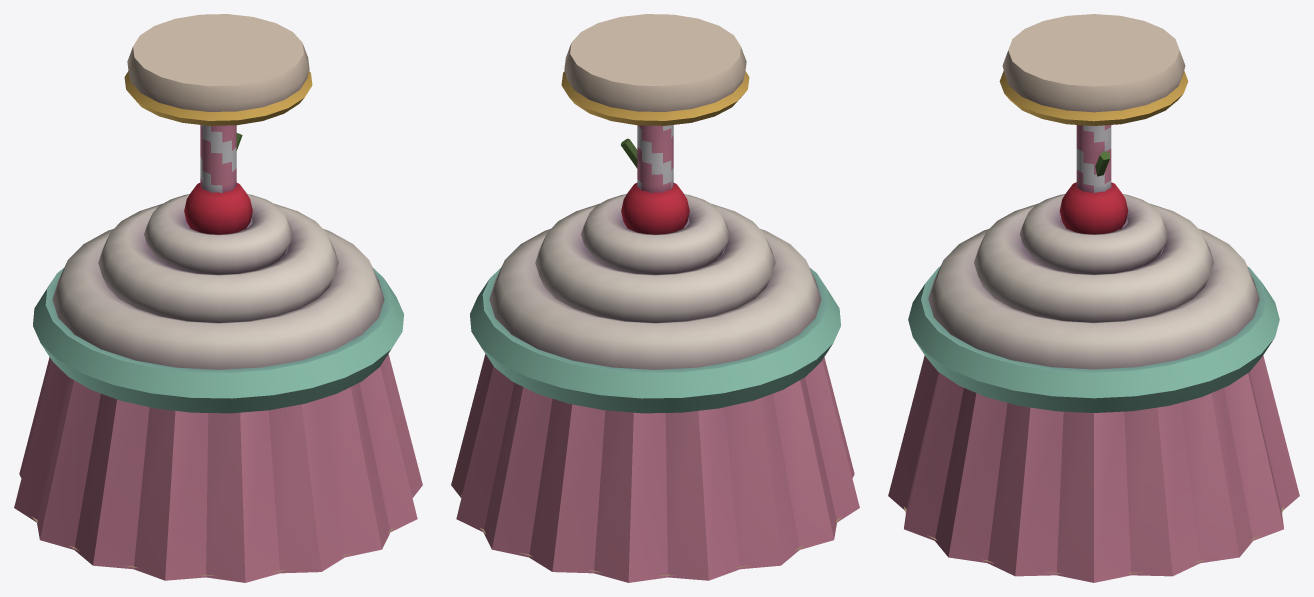
Rendered from lamp_candy.glb.
The picture shows the model from 3 angles, left to right: view 1: azimuth 30°, elevation 25°; view 2: azimuth 150°, elevation 25°; view 3: azimuth 270°, elevation 25°; orthographic projection.
Parts seen in each view (by area): view 1: lamp_candy; view 2: lamp_candy; view 3: lamp_candy.
Boxes of the visible parts, left/top/right/bottom form: lamp_candy: left=14, top=14, right=422, bottom=582; lamp_candy: left=451, top=14, right=859, bottom=582; lamp_candy: left=888, top=14, right=1299, bottom=582.
Size of the model in its own units: 0.7201 by 0.86 by 0.7201.
